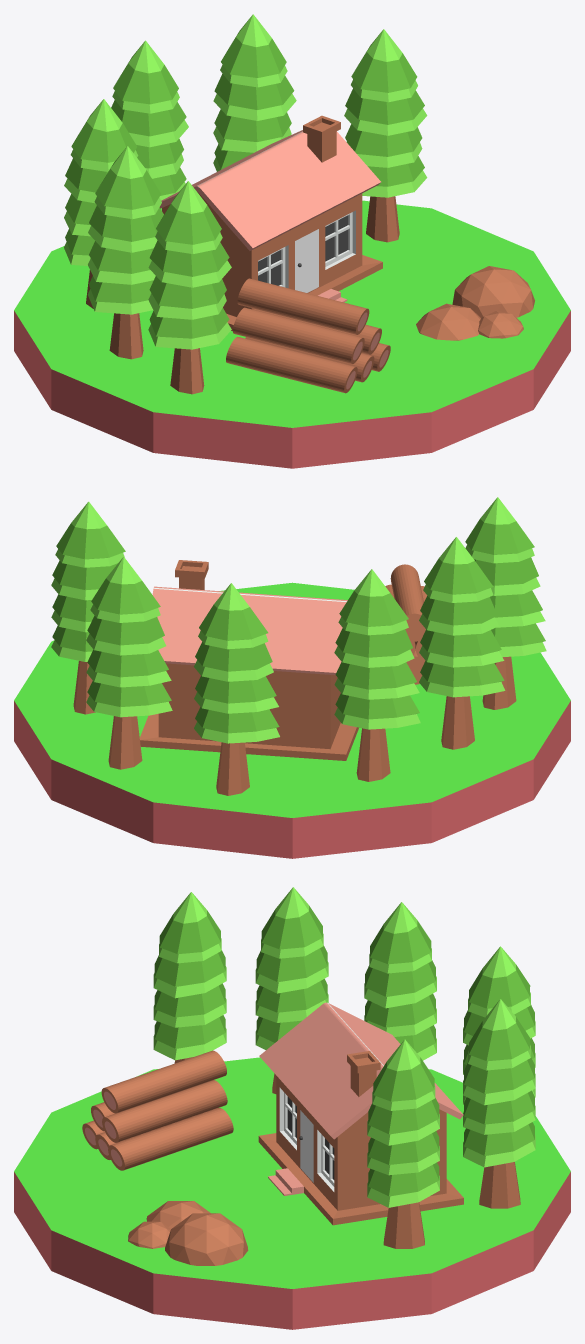
The model's file is houseland1.fbx.
3 renders of one model, top to bottom at view 1: azimuth 30°, elevation 25°; view 2: azimuth 150°, elevation 25°; view 3: azimuth 270°, elevation 25°, orthographic.
Parts seen in each view (by area): view 1: Circle.003, Circle.002, Plane.017, Cube.001, Plane.008, Plane.010, Plane.006, Plane.011, Plane.002, Cube, Plane.004, Icosphere.005 (+9 smaller); view 2: Circle.003, Circle.002, Cube, Plane.004, Plane.011, Plane.006, Plane.002, Cube.001, Plane.008, Plane.010, Plane.017, Plane.025 (+6 smaller); view 3: Circle.003, Circle.002, Plane.017, Plane.008, Cube.001, Plane.010, Plane.011, Plane.006, Plane.004, Cube, Plane.002, Icosphere.005 (+9 smaller).
Boxes of the visible parts, box(x1,y1,x2,y2) form: Circle.003: box(14, 200, 570, 427); Circle.002: box(14, 311, 570, 468); Plane.017: box(226, 278, 390, 393); Cube.001: box(159, 130, 380, 250); Plane.008: box(148, 181, 231, 349); Plane.010: box(344, 29, 427, 197); Plane.006: box(87, 146, 163, 314); Plane.011: box(213, 14, 296, 171); Plane.002: box(111, 40, 188, 200); Cube: box(162, 192, 382, 331); Plane.004: box(64, 99, 138, 265); Icosphere.005: box(452, 266, 534, 318); Circle.003: box(14, 582, 570, 817); Circle.002: box(14, 701, 570, 858); Cube: box(139, 663, 358, 760); Plane.004: box(334, 569, 420, 729); Plane.011: box(86, 556, 172, 717); Plane.006: box(419, 537, 505, 697); Plane.002: box(194, 583, 279, 743); Cube.001: box(152, 586, 347, 675); Plane.008: box(465, 497, 546, 657); Plane.010: box(51, 501, 125, 661); Plane.017: box(385, 564, 427, 684); Plane.025: box(108, 716, 142, 769); Circle.003: box(14, 1057, 570, 1288); Circle.002: box(14, 1172, 570, 1329); Plane.017: box(82, 1050, 233, 1170); Plane.008: box(153, 892, 226, 1060); Cube.001: box(259, 1002, 463, 1139); Plane.010: box(367, 1039, 439, 1207); Plane.011: box(463, 999, 535, 1167); Plane.006: box(255, 887, 328, 1049); Plane.004: box(364, 902, 436, 1060); Cube: box(258, 1076, 463, 1225); Plane.002: box(463, 946, 535, 1104); Icosphere.005: box(165, 1213, 248, 1265).
Bounding box in the file's own units: 963 × 499 × 963.
